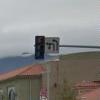Traffic light: (29, 31, 55, 71)
